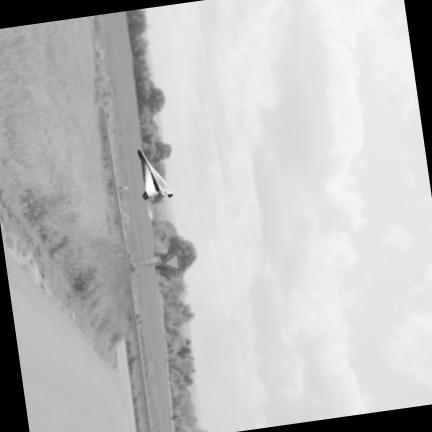Shahed: (137, 150, 171, 199)
